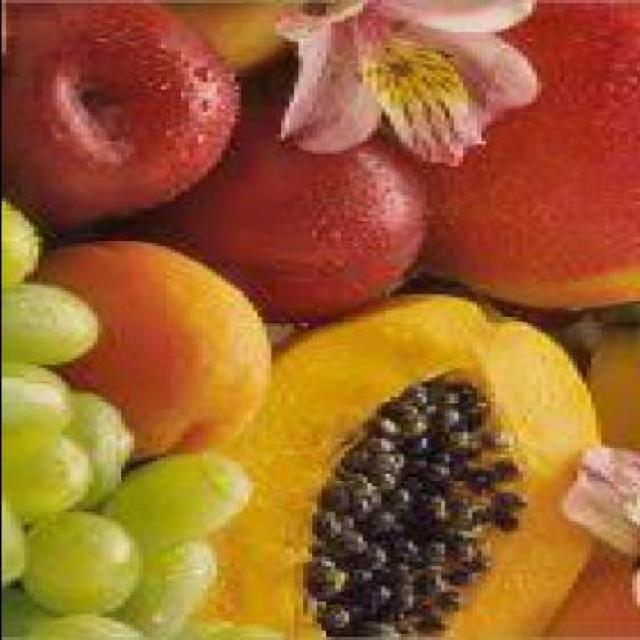BIODEGRADABLE: (188, 289, 612, 636), (402, 0, 640, 308), (160, 108, 425, 324), (5, 0, 242, 228), (41, 236, 274, 461), (274, 0, 535, 154), (548, 314, 638, 640), (27, 506, 147, 614), (160, 0, 320, 80), (110, 454, 247, 544), (572, 442, 639, 622), (128, 545, 224, 637), (4, 282, 105, 368), (69, 391, 137, 512), (4, 430, 96, 512), (5, 364, 69, 444), (5, 196, 46, 282), (37, 611, 141, 637), (5, 512, 32, 582)
